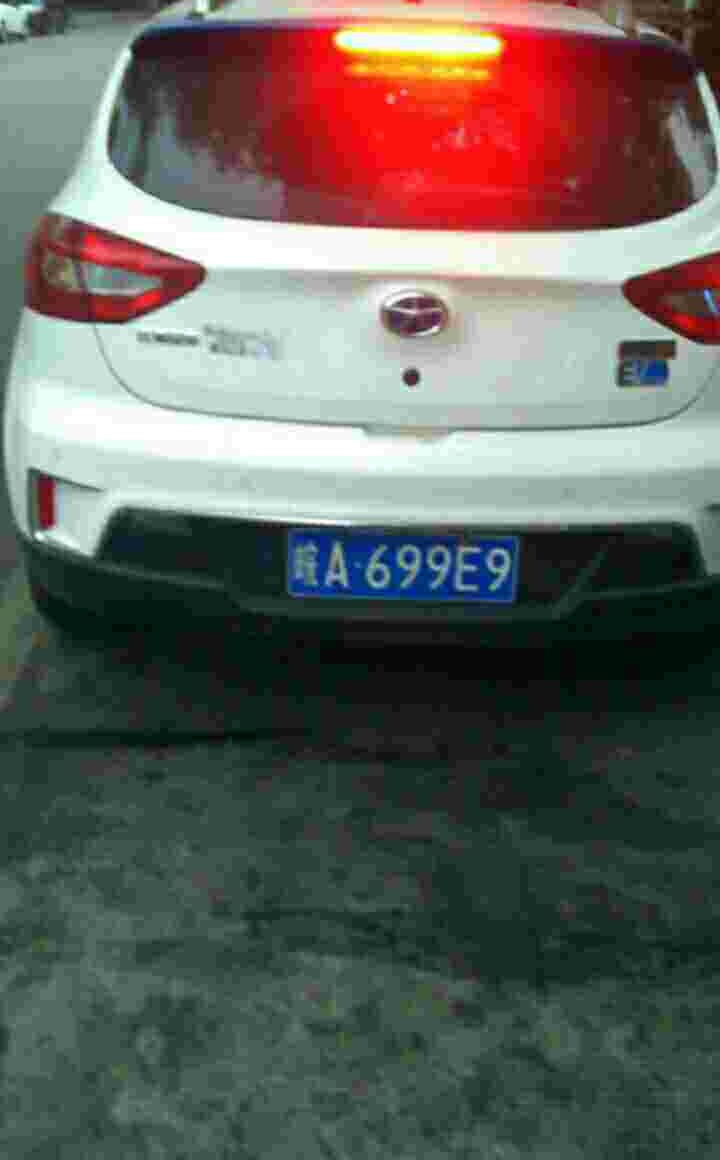license_plate: (297, 535, 522, 604)
